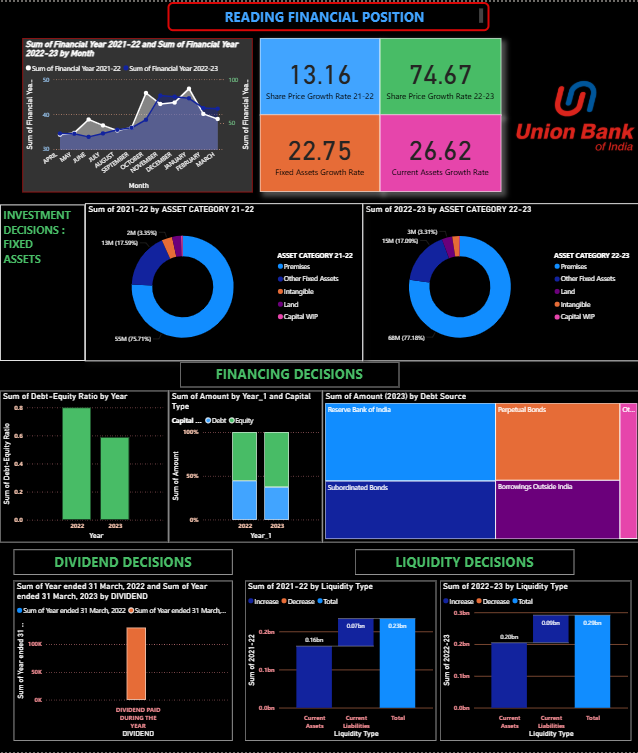

Layout of this report page (visuals, bound fields, positions):
{"tool":"powerbi","page":{"name":"Reading Financial Position - UBI","canvas":[1280,1500],"ordinal":0},"visuals":[{"type":"lineChart","fields":{"Category":["SHARE PRICE (2).Month"],"Y":["Sum(SHARE PRICE (2).Financial Year 2021-22)"],"Y2":["Sum(SHARE PRICE (2).Financial Year 2022-23)"]},"box":[44,72,460,308],"z":0},{"type":"card","fields":{"Values":["Min(SHARE PRICE (2).GROWTH RATE)"]},"box":[520,72,240,154],"z":1000},{"type":"image","box":[1022.5,75,257.5,307.5],"z":2000},{"type":"textbox","box":[336,0,644,58],"z":3000},{"type":"donutChart","fields":{"Category":["Assets.ASSET CATEGORY"],"Y":["Sum(Assets.2022-23)"]},"box":[725.4,403,554.6,316.2],"z":3000,"group":"g2"},{"type":"group","id":"g1","title":"Group 1","box":[0,403,1280,316.2],"z":4000},{"type":"textbox","box":[0,404.3,170,312.9],"z":4000,"group":"g2"},{"type":"card","fields":{"Values":["Sum(Assets (2).ASSETS GROWTH RATE)"]},"box":[520,226,240,154],"z":5000},{"type":"donutChart","fields":{"Category":["Assets.ASSET CATEGORY"],"Y":["Sum(Assets.2021-22)"]},"box":[170,403,556,316],"z":5000,"group":"g2"},{"type":"group","id":"g2","title":"Group 2","box":[0,403,1280,316.2],"z":5001,"group":"g1"},{"type":"card","fields":{"Values":["Max(SHARE PRICE (2).GROWTH RATE)"]},"box":[760,72,242,154],"z":6000},{"type":"clusteredColumnChart","fields":{"Category":["FD TRANSFORMED.Year"],"Y":["Sum(FD TRANSFORMED.Debt-Equity Ratio)"]},"box":[0,776.7,336.7,303.3],"z":7000},{"type":"treemap","fields":{"Values":["Sum(FD TRANSFORMED.Amount (2023))"],"Group":["FD TRANSFORMED.Debt Source"]},"box":[644.3,777.1,635.7,302.9],"z":8000},{"type":"hundredPercentStackedColumnChart","fields":{"Category":["FD TRANSFORMED.Year_1"],"Series":["FD TRANSFORMED.Capital Type"],"Y":["Sum(FD TRANSFORMED.Amount)"]},"box":[337.1,777.1,307.1,302.9],"z":9000},{"type":"textbox","box":[360,720,438,50],"z":10000},{"type":"textbox","box":[27.5,1095,437.5,50],"z":11000},{"type":"card","fields":{"Values":["Sum(LD TRANSFORMED.CA GROWTH RATE)"]},"box":[760,226,242,154],"z":11001},{"type":"ribbonChart","fields":{"Category":["DD TRANSFORMED.DIVIDEND"],"Y":["Sum(DD TRANSFORMED.Year ended 31 March, 2022)","Sum(DD TRANSFORMED.Year ended 31 March, 2023)"]},"box":[27.5,1157.5,437.5,320],"z":11002},{"type":"textbox","box":[710,1094.3,438.6,50],"z":11003},{"type":"waterfallChart","fields":{"Category":["LD TRANSFORMED.Column1"],"Y":["Sum(LD TRANSFORMED.2021-22)"]},"box":[490,1157.5,382.5,320],"z":11004},{"type":"waterfallChart","fields":{"Category":["LD TRANSFORMED.Column1"],"Y":["Sum(LD TRANSFORMED.2022-23)"]},"box":[880,1157.5,382.5,320],"z":11005}]}

Visuals, with their boxes in screenshot pixels (x1, y1, x2, y2), scaled from the page's 1280x1500 canvas onto the 638x753 screenshot:
lineChart - SHARE PRICE (2).Month x Sum(SHARE PRICE (2).Financial Year 2021-22): locate(22, 36, 251, 191)
card - Min(SHARE PRICE (2).GROWTH RATE): locate(259, 36, 379, 113)
image: locate(510, 38, 637, 192)
textbox: locate(167, 0, 488, 29)
donutChart - Assets.ASSET CATEGORY x Sum(Assets.2022-23): locate(362, 202, 637, 361)
"Group 1" group: locate(0, 202, 637, 361)
textbox: locate(0, 203, 85, 360)
card - Sum(Assets (2).ASSETS GROWTH RATE): locate(259, 113, 379, 191)
donutChart - Assets.ASSET CATEGORY x Sum(Assets.2021-22): locate(85, 202, 362, 361)
"Group 2" group: locate(0, 202, 637, 361)
card - Max(SHARE PRICE (2).GROWTH RATE): locate(379, 36, 499, 113)
clusteredColumnChart - FD TRANSFORMED.Year x Sum(FD TRANSFORMED.Debt-Equity Ratio): locate(0, 390, 168, 542)
treemap - Sum(FD TRANSFORMED.Amount (2023)) x FD TRANSFORMED.Debt Source: locate(321, 390, 637, 542)
hundredPercentStackedColumnChart - FD TRANSFORMED.Year_1 x FD TRANSFORMED.Capital Type: locate(168, 390, 321, 542)
textbox: locate(179, 361, 398, 387)
textbox: locate(14, 550, 232, 575)
card - Sum(LD TRANSFORMED.CA GROWTH RATE): locate(379, 113, 499, 191)
ribbonChart - DD TRANSFORMED.DIVIDEND x Sum(DD TRANSFORMED.Year ended 31 March, 2022): locate(14, 581, 232, 742)
textbox: locate(354, 549, 573, 574)
waterfallChart - LD TRANSFORMED.Column1 x Sum(LD TRANSFORMED.2021-22): locate(244, 581, 435, 742)
waterfallChart - LD TRANSFORMED.Column1 x Sum(LD TRANSFORMED.2022-23): locate(439, 581, 629, 742)
